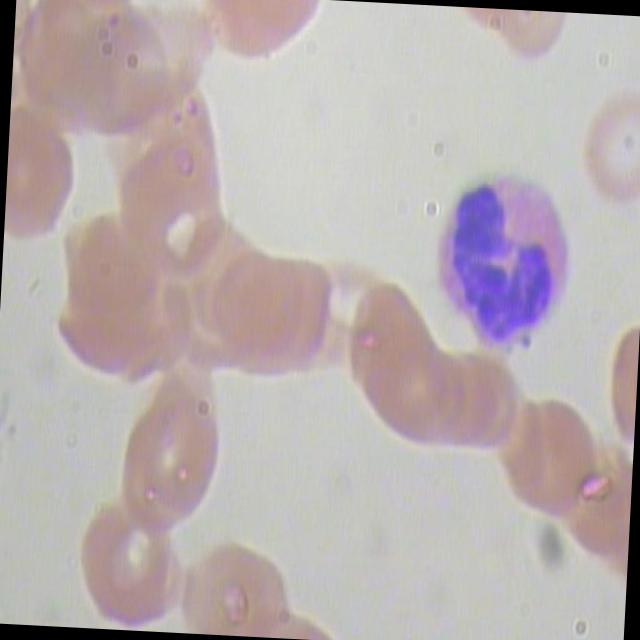RBC: (103, 371, 238, 549), (68, 494, 198, 634), (238, 250, 344, 384), (212, 241, 318, 374), (284, 252, 390, 385), (496, 398, 602, 530), (168, 533, 298, 639), (5, 109, 90, 249), (571, 92, 640, 209)
WBC: (418, 152, 596, 364)
